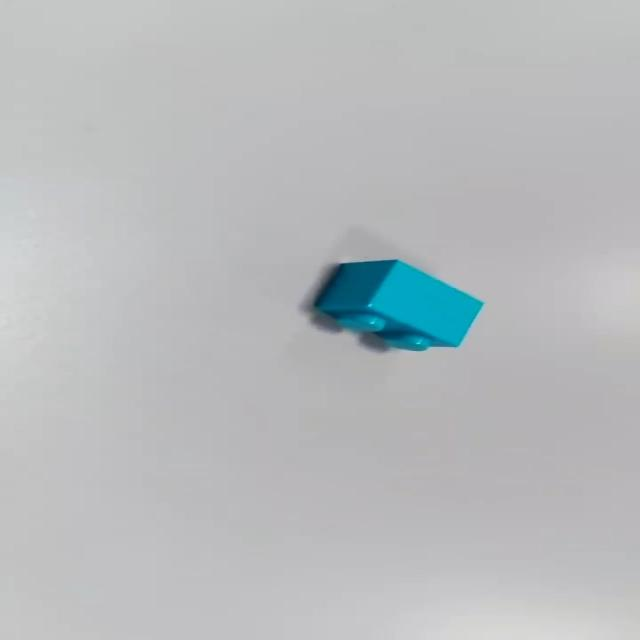C2x1x1: (311, 258, 485, 352)
